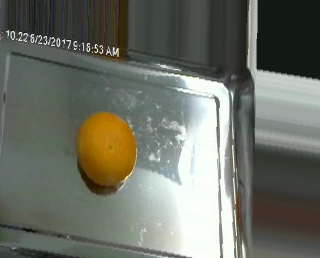Orange: (77, 109, 137, 186)
